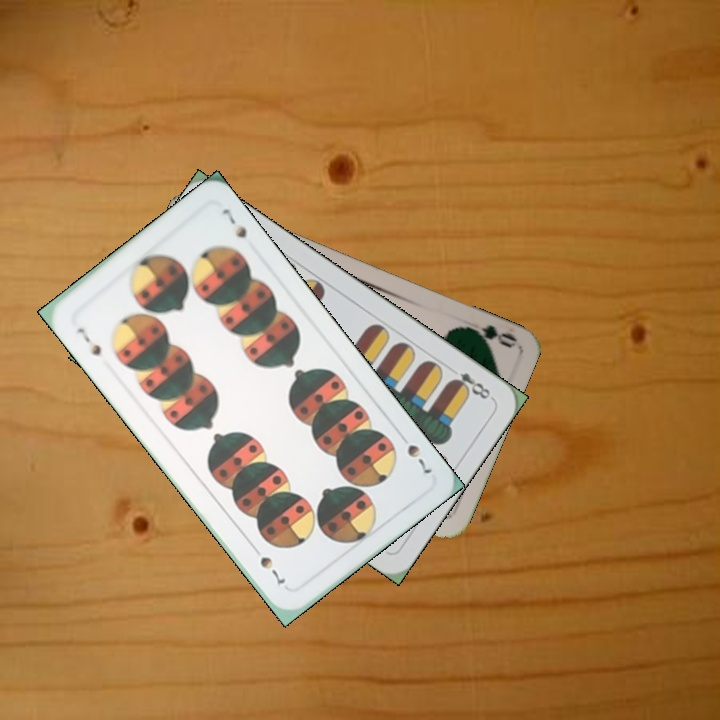E8: (445, 362, 496, 402)
GO: (458, 320, 518, 351)
S7: (394, 428, 434, 478), (72, 323, 104, 359)
